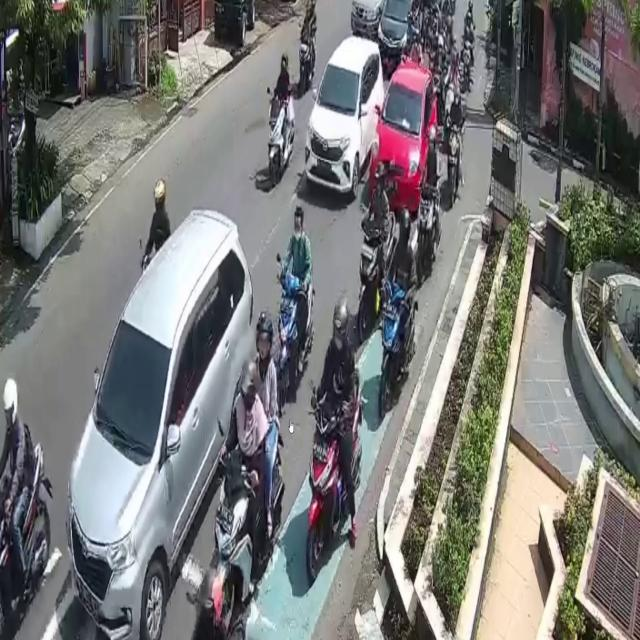bus: (217, 414, 283, 603), (310, 363, 362, 574), (380, 278, 416, 418), (359, 207, 395, 346), (276, 263, 314, 393), (268, 89, 296, 190), (416, 175, 440, 281), (448, 121, 464, 208)
motorcycle: (68, 208, 255, 640), (305, 35, 385, 196), (372, 58, 437, 214), (380, 0, 420, 70)
